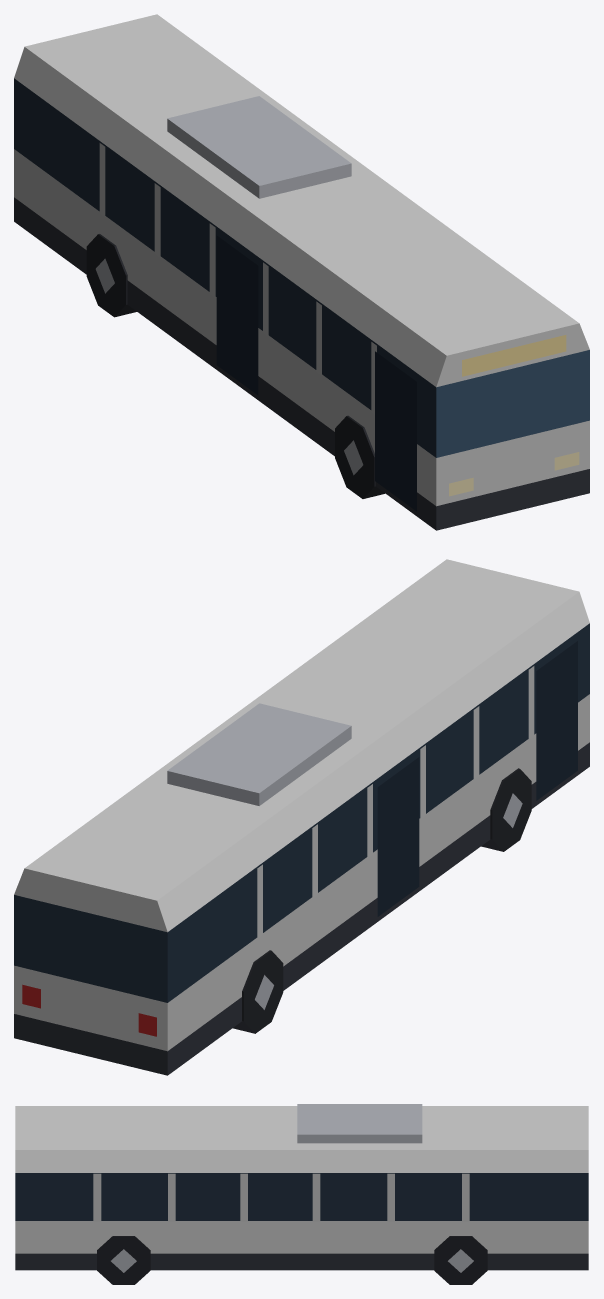
The model's file is prop_bus.glb.
3 views of the same model, one above another, from view 1: azimuth 30°, elevation 25°; view 2: azimuth 150°, elevation 25°; view 3: azimuth 270°, elevation 25° (orthographic). The views are drawn at different scales.
Parts seen in each view (by area): view 1: prop_bus; view 2: prop_bus; view 3: prop_bus.
Boxes of the visible parts, left/top/right/bottom form: prop_bus: left=14, top=14, right=589, bottom=530; prop_bus: left=14, top=559, right=589, bottom=1075; prop_bus: left=15, top=1104, right=588, bottom=1284.
Size of the model in its own units: 2.6 by 3.2 by 11.96.
